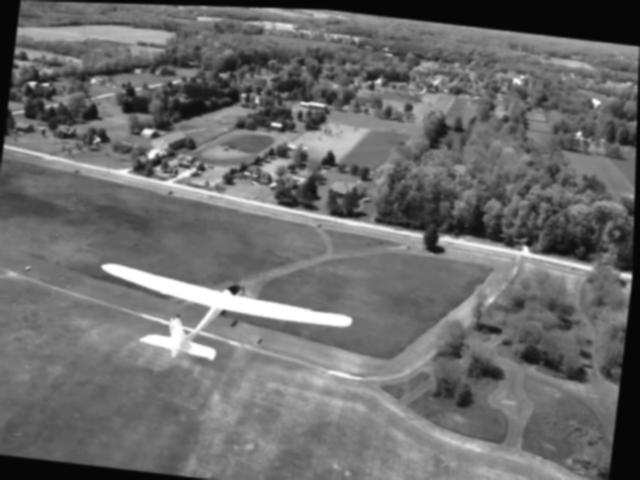hedef: (56, 251, 378, 390)
